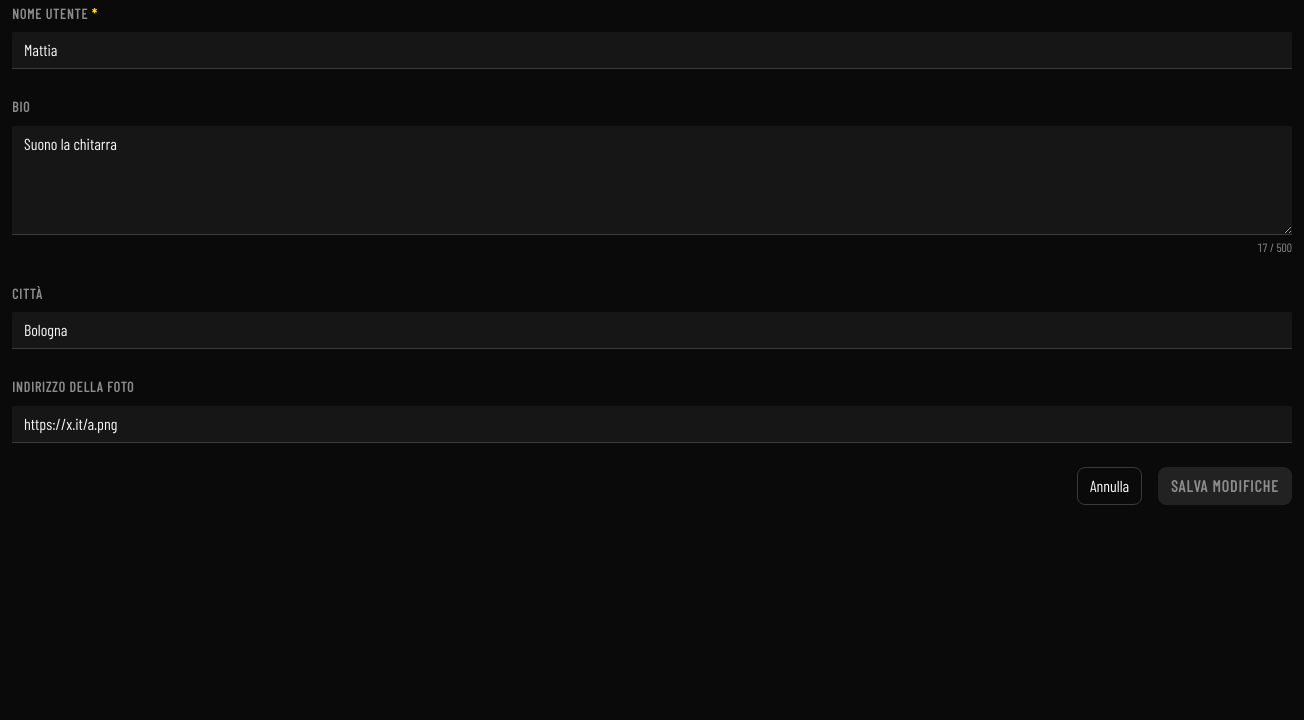
Test: ProfileForm › un indirizzo della foto che non è http o https non parte
Replace the text in the field labelled "Indirizzo della foto" with "javascript:alert(1)". click: (652, 424)
box: x1=12 y1=406 x2=1292 y2=443
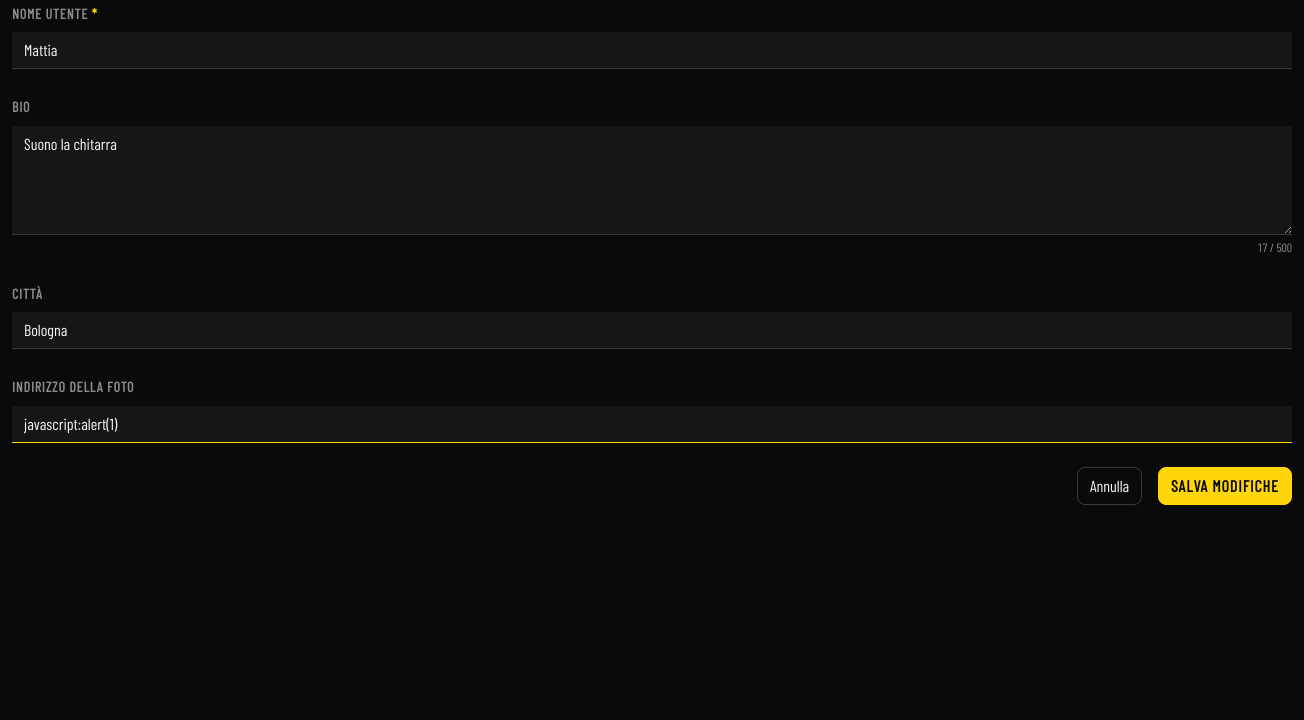
Click the button "Salva modifiche". click: (1225, 486)
box: x1=1158 y1=467 x2=1292 y2=505
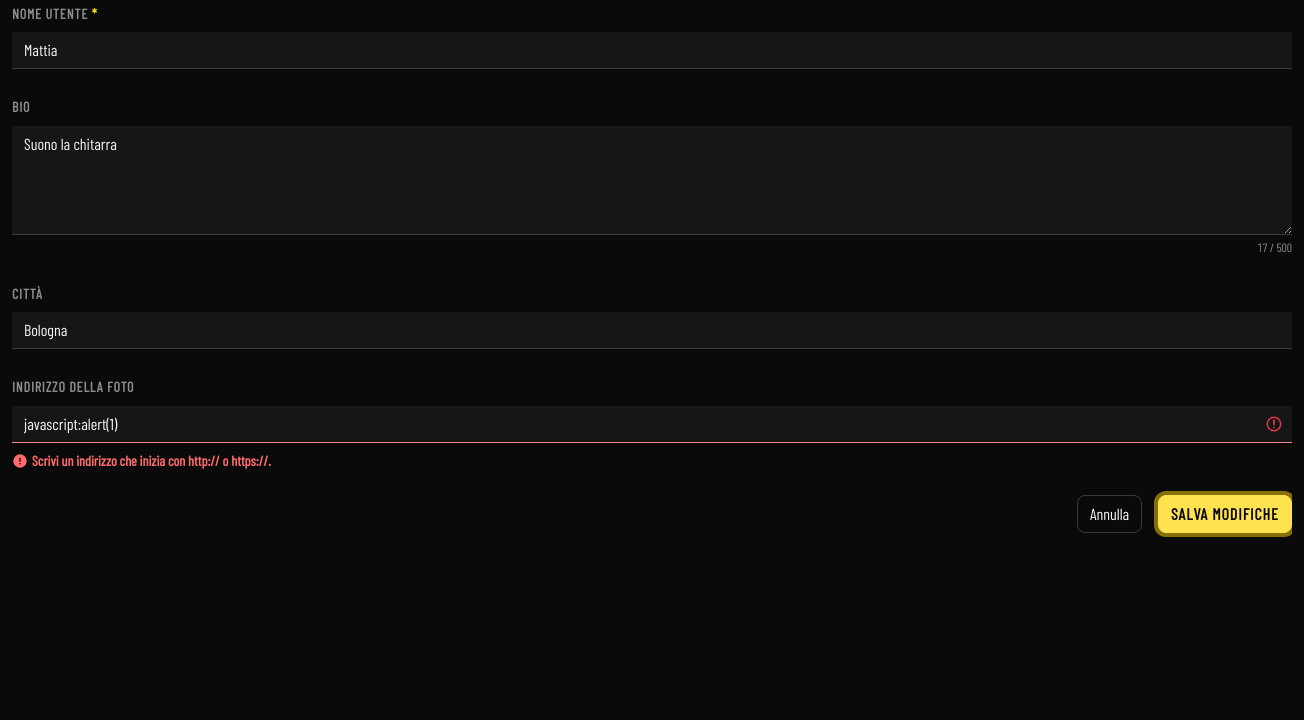
Result: the text "Scrivi un indirizzo che inizia con http:// o https://." is shown at x1=32 y1=451 x2=271 y2=471
